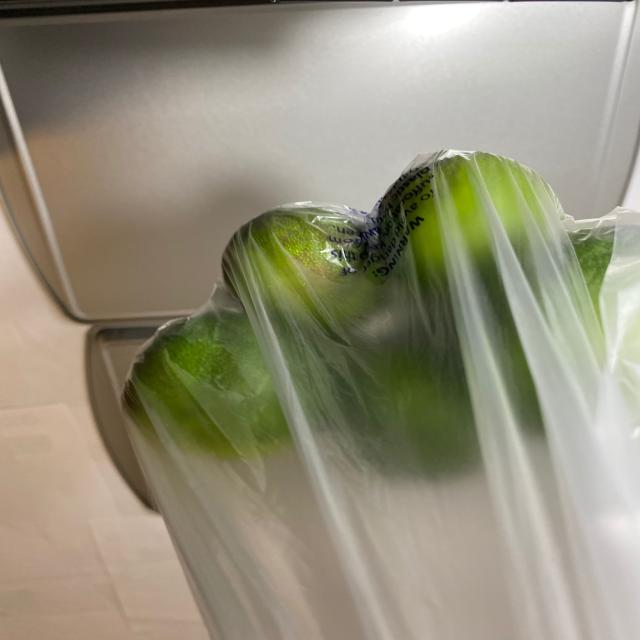lemon: (120, 156, 639, 474)
